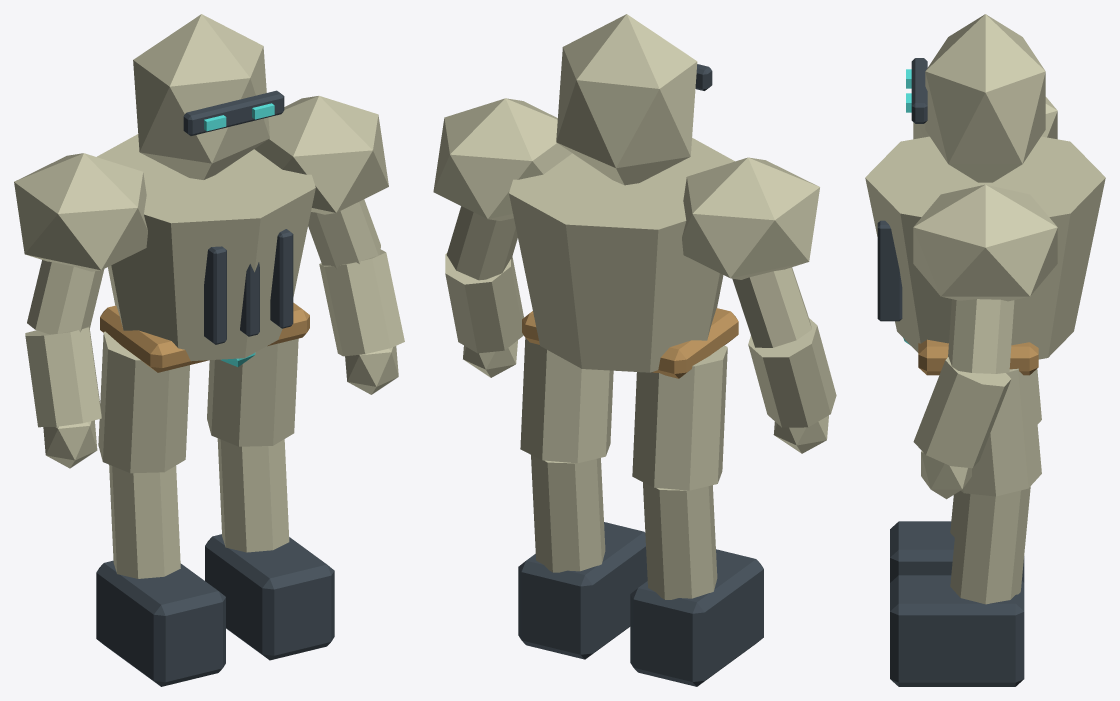
The model's file is L01R_GraveGhoulStudy.fbx.
The picture shows the model from 3 angles, left to right: view 1: azimuth 30°, elevation 25°; view 2: azimuth 150°, elevation 25°; view 3: azimuth 270°, elevation 25°; orthographic projection. The views are drawn at different scales.
Parts seen in each view (by area): view 1: L01R_GraveGhoulStudy; view 2: L01R_GraveGhoulStudy; view 3: L01R_GraveGhoulStudy.
Part boxes in pixels (x1,y1,x2,y2): L01R_GraveGhoulStudy: (14,14,404,686); L01R_GraveGhoulStudy: (433,14,836,686); L01R_GraveGhoulStudy: (865,14,1105,686).
Size of the model in its own units: 120 by 197 by 68.
